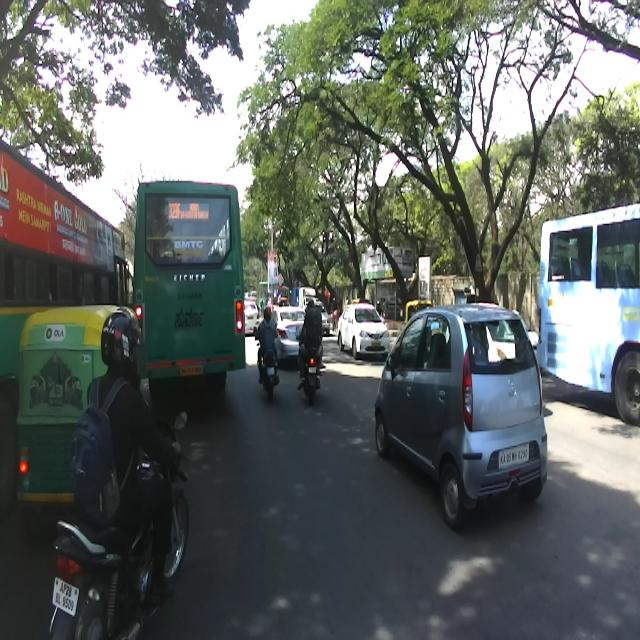autorickshaw: (15, 304, 129, 540)
bus: (0, 132, 128, 524), (536, 198, 640, 450), (133, 172, 245, 392)
car: (373, 302, 547, 530), (334, 303, 392, 362)
motorcycle: (41, 410, 190, 639), (254, 328, 283, 399), (296, 334, 323, 404)
